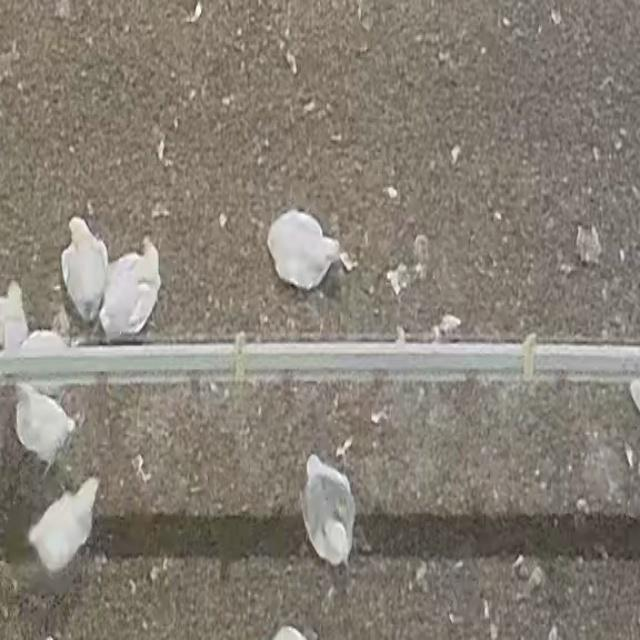chicken: (267, 206, 358, 290), (27, 477, 101, 576), (98, 239, 162, 344), (300, 453, 356, 568), (14, 382, 76, 476), (61, 217, 110, 327), (4, 330, 70, 397), (0, 282, 30, 352)
